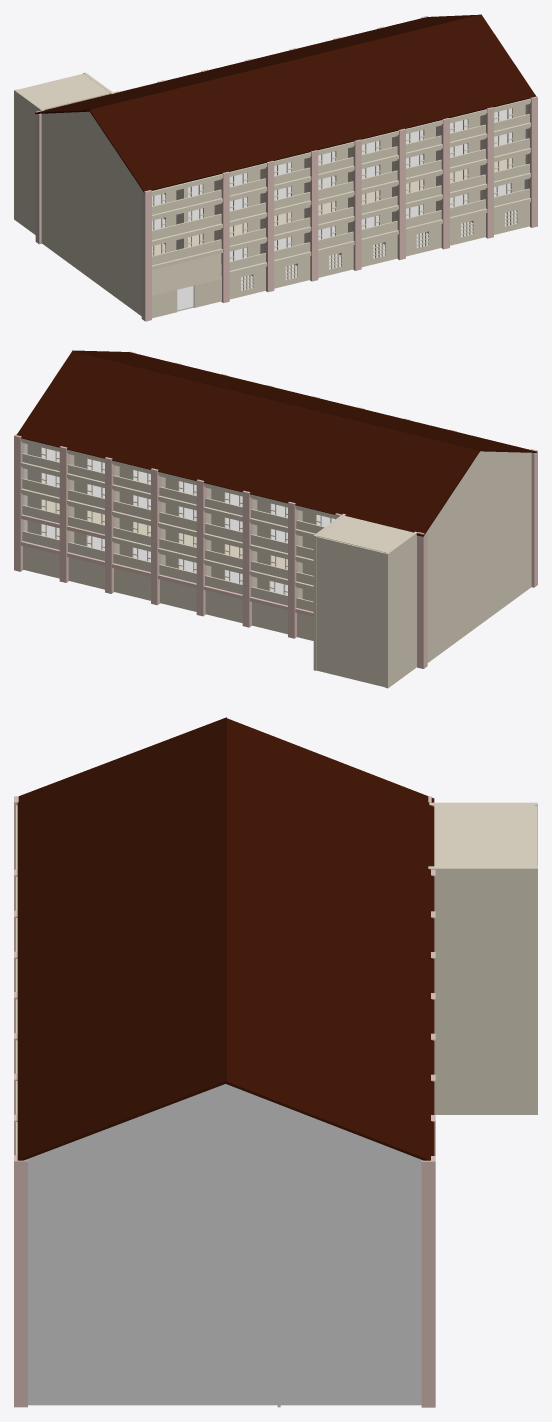
The model's file is house5.fbx.
3 views of the same model, one above another, from view 1: azimuth 30°, elevation 25°; view 2: azimuth 150°, elevation 25°; view 3: azimuth 270°, elevation 25° (orthographic). The views are drawn at different scales.
Parts seen in each view (by area): view 1: 立方体.1897; view 2: 立方体.1897; view 3: 立方体.1897.
Part boxes in pixels (box(x1,y1,x2,y2)): 立方体.1897: box(14, 14, 537, 321); 立方体.1897: box(14, 350, 537, 688); 立方体.1897: box(14, 717, 537, 1407).
Size of the model in its own units: 24738 by 10368 by 15027.
